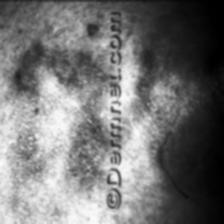Toxin: (72, 57, 104, 194), (129, 39, 163, 127), (12, 57, 36, 103), (85, 23, 99, 39)
